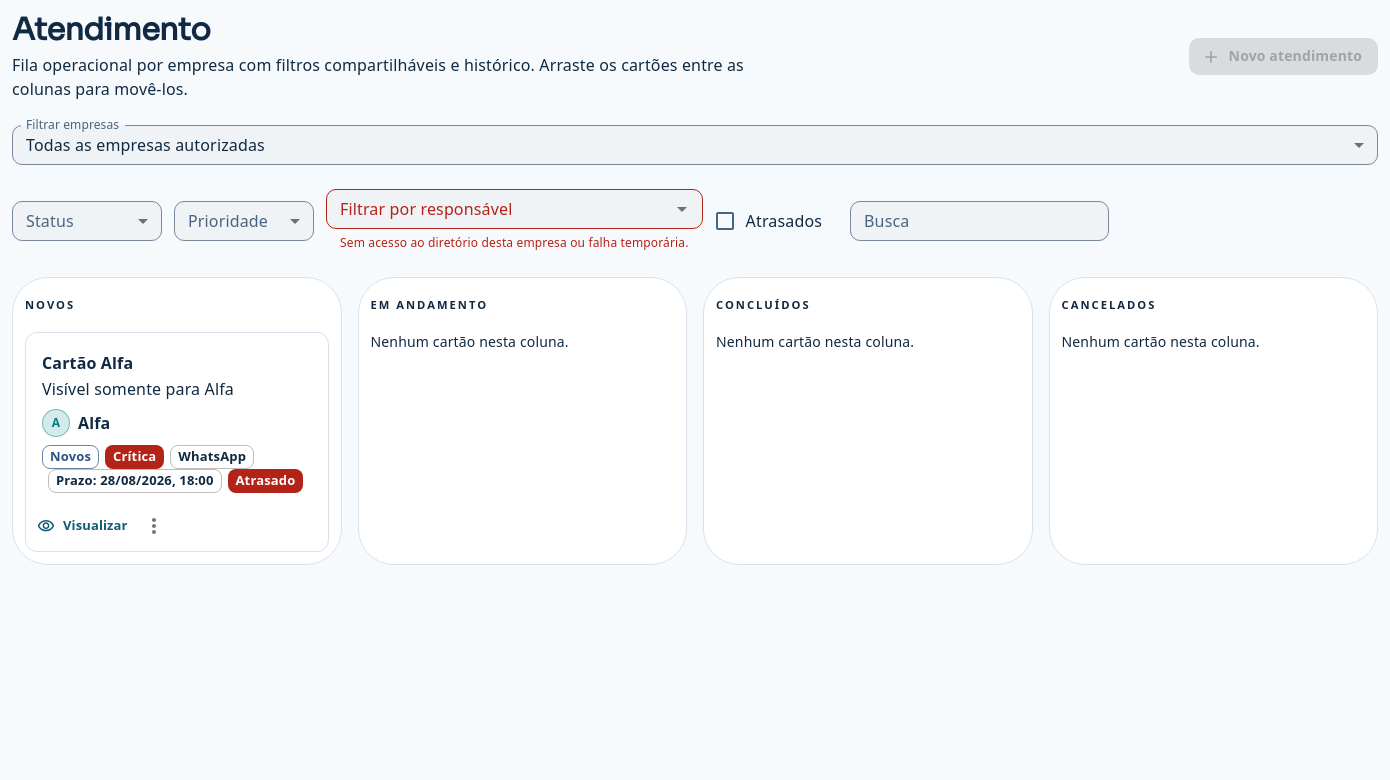
Test case: AtendimentoPage › exposes cancellation with a Company-scoped cancel capability without granting move
The width and height of the screenshot is (1390, 780).
Expected: the heading "Cartão Alfa" is shown, [42, 352, 133, 374]
Click the button named "Mais ações". click: (154, 526)
box: [137, 509, 171, 543]
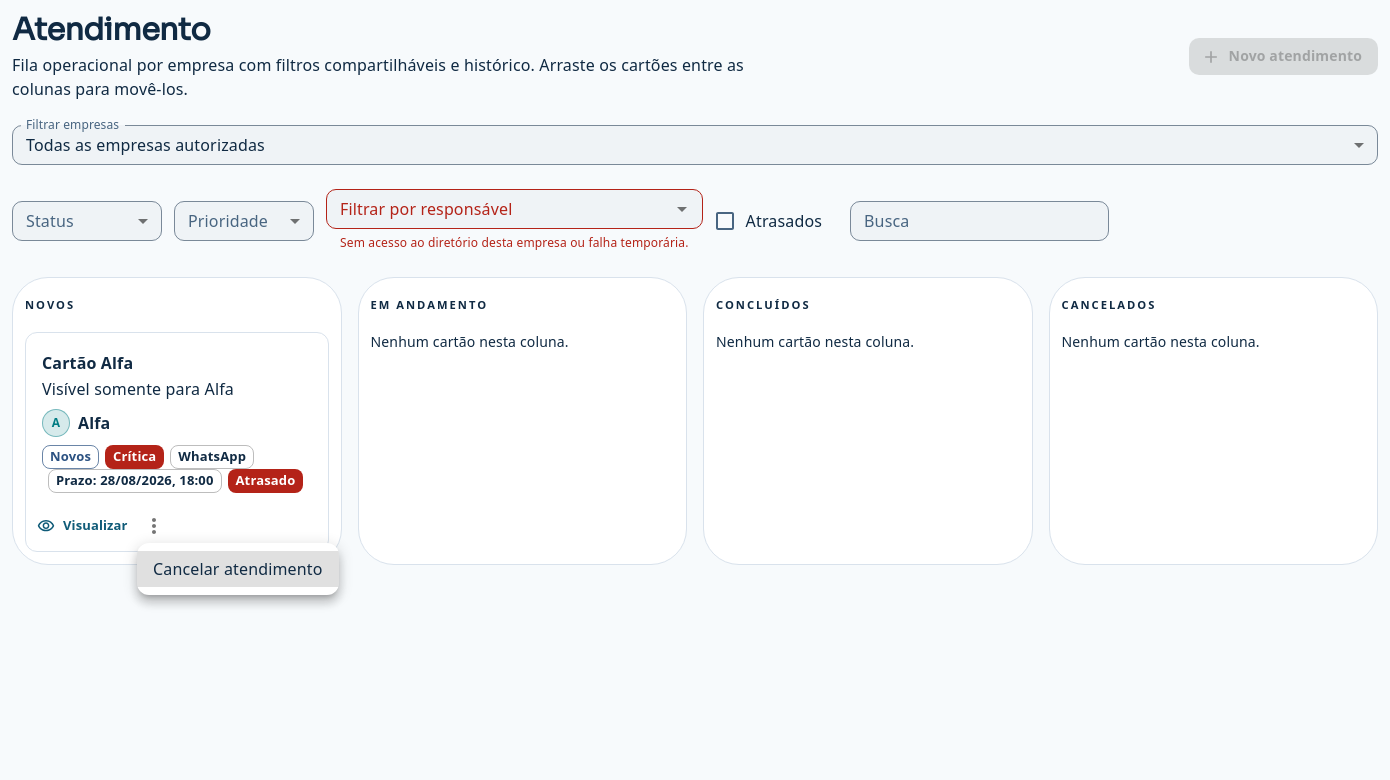
Expected: the menu item "Cancelar atendimento" is shown, [137, 551, 338, 587]
